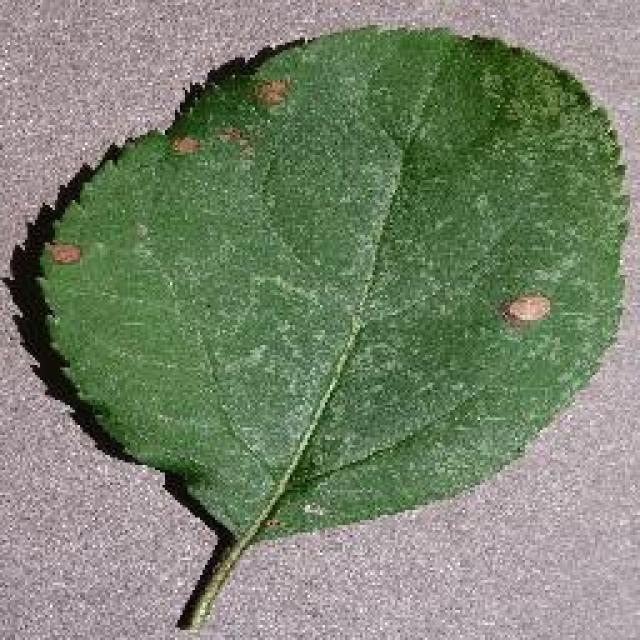Black_rot: (25, 20, 630, 632)
